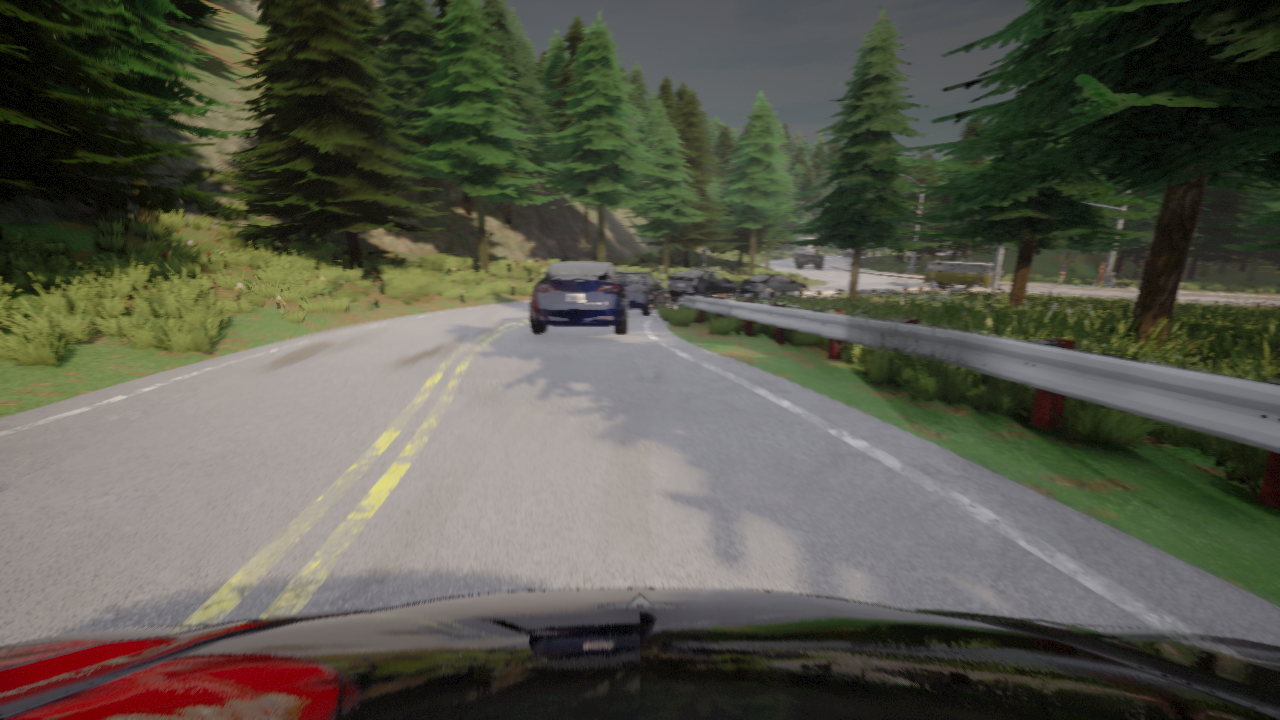cyclist: (0, 588, 1279, 719), (530, 262, 631, 333), (667, 270, 737, 302), (617, 271, 669, 314), (923, 260, 999, 287), (738, 273, 809, 292), (792, 237, 823, 268), (841, 249, 867, 257)
pedestrian: (1123, 264, 1141, 289), (1111, 263, 1126, 288), (1093, 262, 1106, 286), (1057, 260, 1066, 285), (1103, 271, 1114, 287), (1088, 272, 1098, 287)
